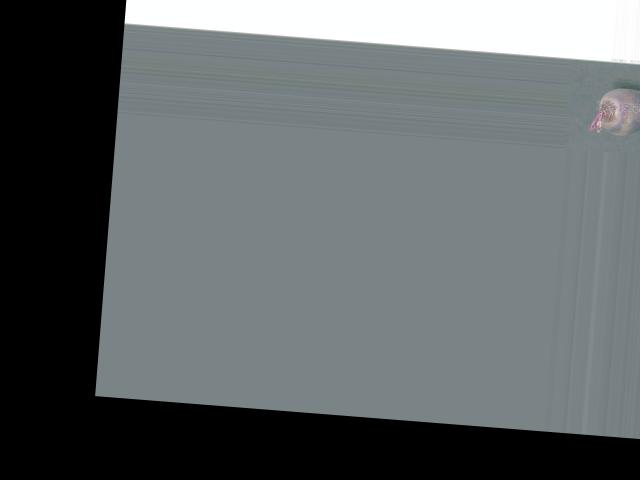beet: (586, 75, 640, 140)
